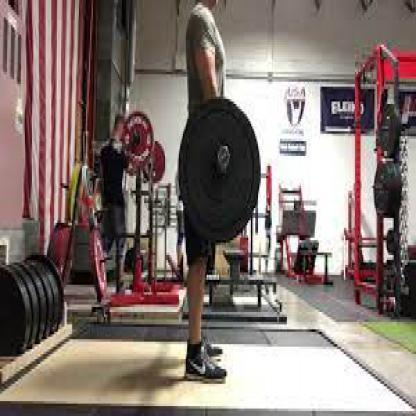barbell: (177, 96, 262, 246)
